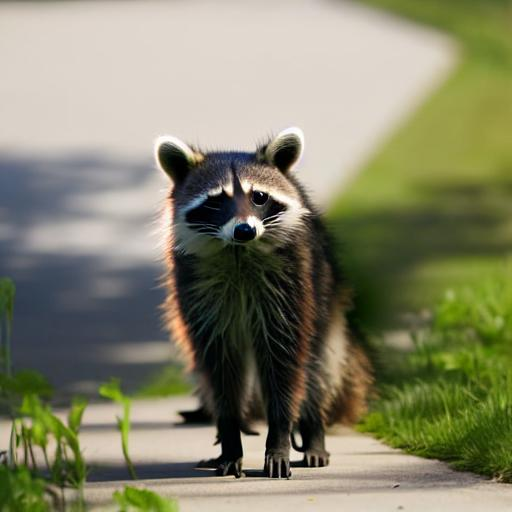raccoon: (138, 123, 392, 436)
